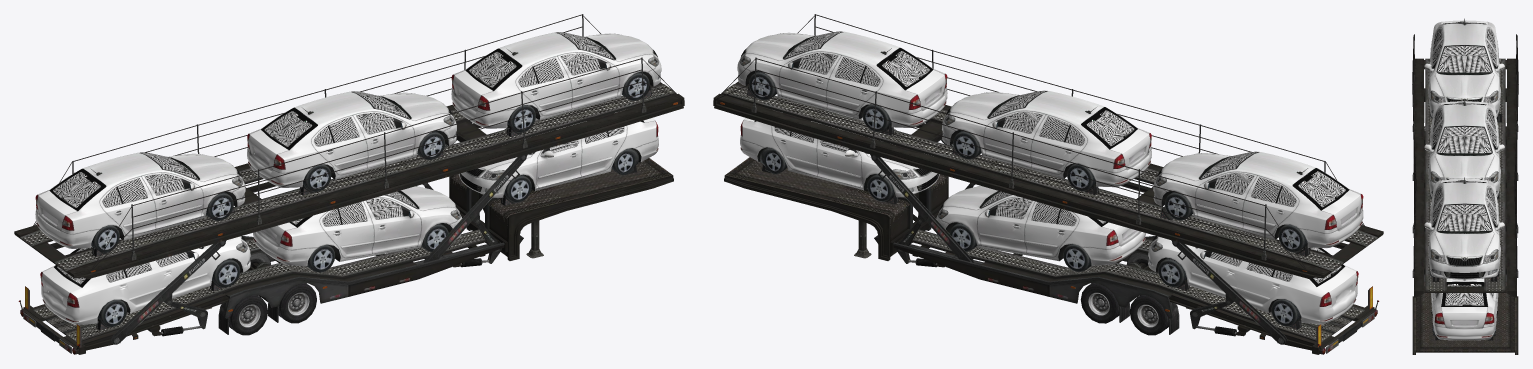
File: trailer-cars.glb
The picture shows the model from 3 angles, left to right: view 1: azimuth 30°, elevation 25°; view 2: azimuth 150°, elevation 25°; view 3: azimuth 270°, elevation 25°; orthographic projection. The views are drawn at different scales.
Parts seen in each view (by area): view 1: Object_4, Object_2, Object_8, Object_7, Object_3; view 2: Object_4, Object_2, Object_8, Object_7, Object_3; view 3: Object_4, Object_2, Object_8.
Boxes of the visible parts, x1=… form: Object_4: x1=35, y1=32, x2=661, y2=322; Object_2: x1=14, y1=14, x2=684, y2=354; Object_8: x1=91, y1=71, x2=649, y2=327; Object_7: x1=41, y1=236, x2=250, y2=325; Object_3: x1=229, y1=253, x2=316, y2=335; Object_4: x1=737, y1=31, x2=1363, y2=321; Object_2: x1=713, y1=14, x2=1383, y2=354; Object_8: x1=749, y1=71, x2=1307, y2=326; Object_7: x1=1148, y1=236, x2=1357, y2=324; Object_3: x1=1080, y1=253, x2=1168, y2=335; Object_4: x1=1424, y1=18, x2=1504, y2=340; Object_2: x1=1412, y1=34, x2=1518, y2=354; Object_8: x1=1430, y1=111, x2=1499, y2=336.
Size of the model in its own units: 15.85 by 4.92 by 2.78.
Materials: 5 (4 with a texture image).
